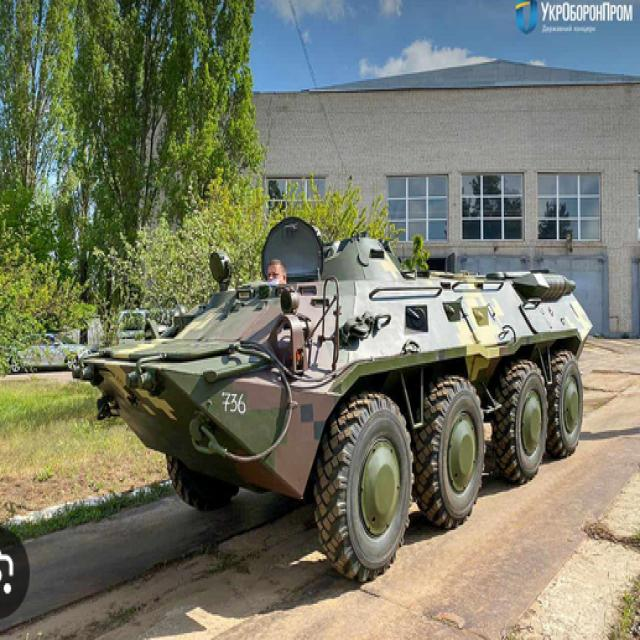MIL_APC: (64, 243, 596, 569)
